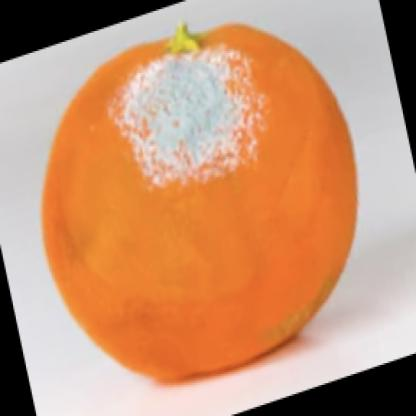rotten: (45, 27, 358, 382)
